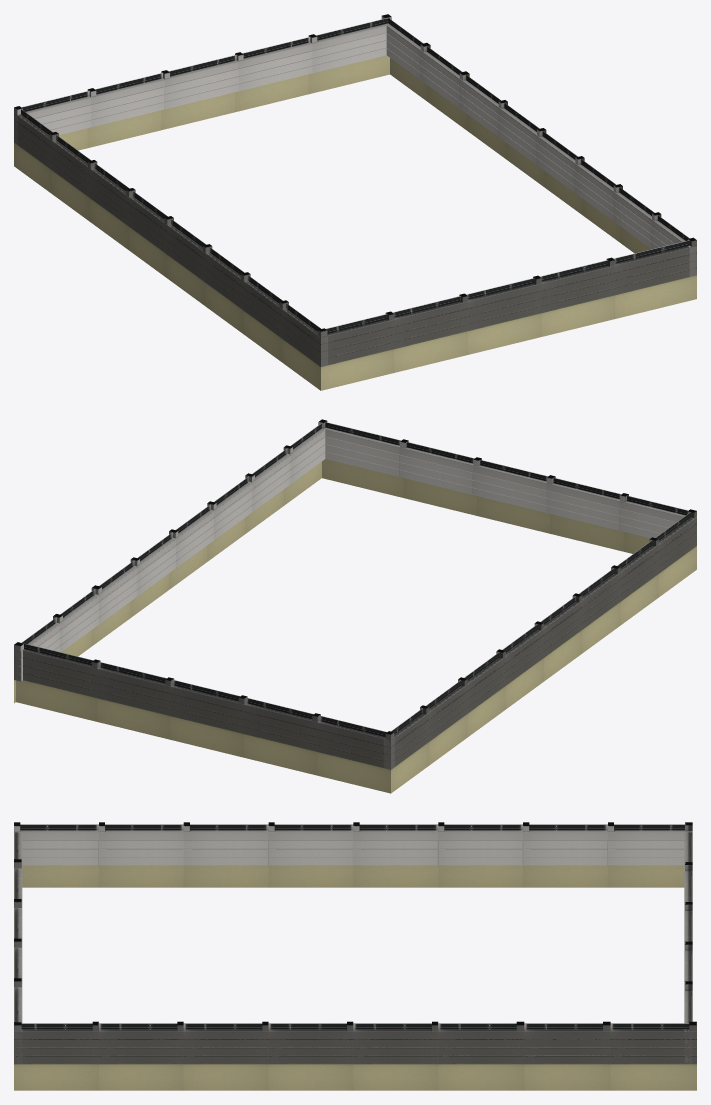
File: Walls.glb
The picture shows the model from 3 angles, top to bottom: view 1: azimuth 30°, elevation 25°; view 2: azimuth 150°, elevation 25°; view 3: azimuth 270°, elevation 25°; orthographic projection. The views are drawn at different scales.
Parts seen in each view (by area): view 1: Walls; view 2: Walls; view 3: Walls.
Part boxes in pixels (left/top/right/bottom): Walls: left=14, top=14, right=696, bottom=390; Walls: left=14, top=419, right=696, bottom=793; Walls: left=14, top=822, right=696, bottom=1090.
Bounding box in the file's own units: 53.4 × 8 × 75.93.
Materials: 1 (1 with a texture image).
